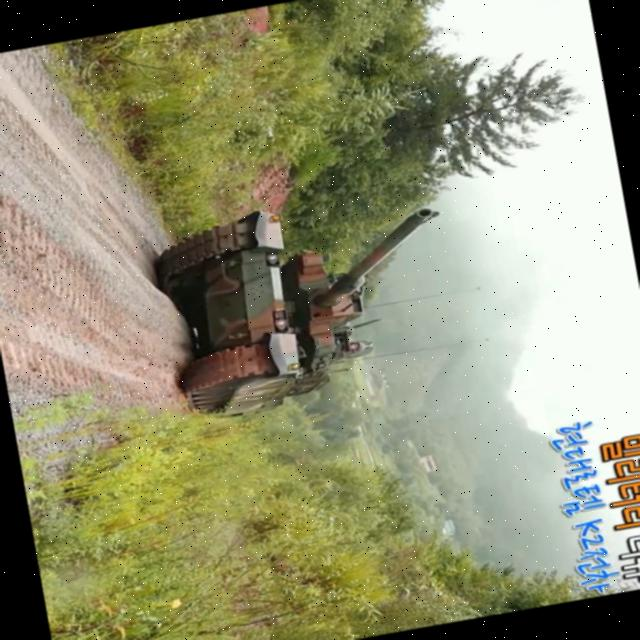korea tank: (148, 178, 468, 426)
